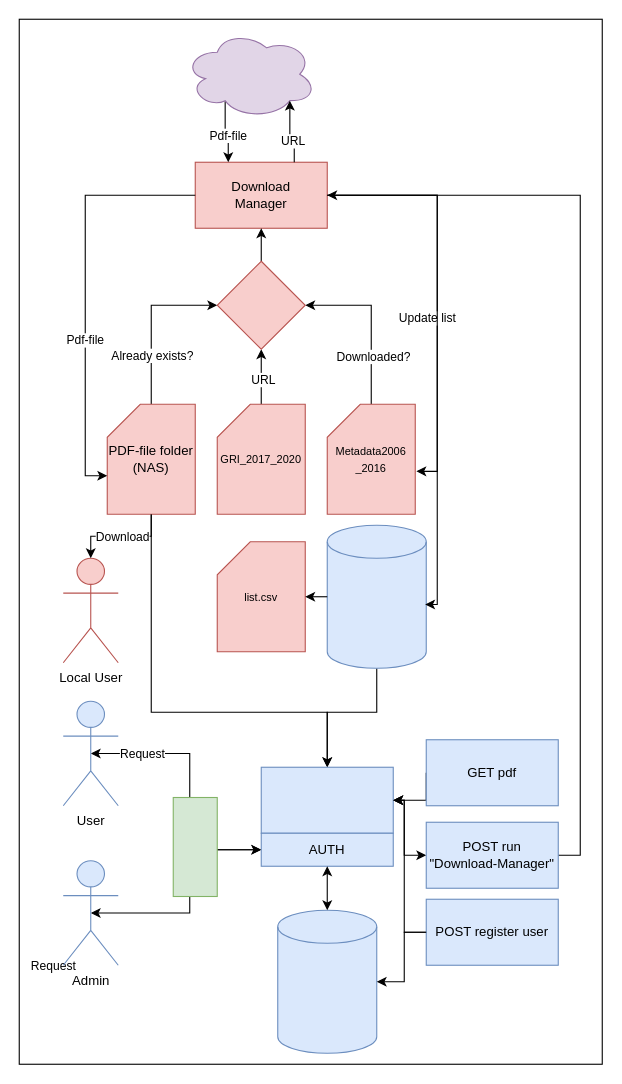
The diagram is 622 pixels wide and 1084 high, and some of its shapes have lost their labels. Each missing label, with the box of its shape:
API: (260, 766, 393, 833)
BRNummer db: (326, 524, 426, 668)
Checks: (216, 260, 305, 349)
Front-end: (172, 796, 217, 897)
Users: (277, 909, 377, 1053)
Web of pdf-files: (183, 29, 316, 118)
